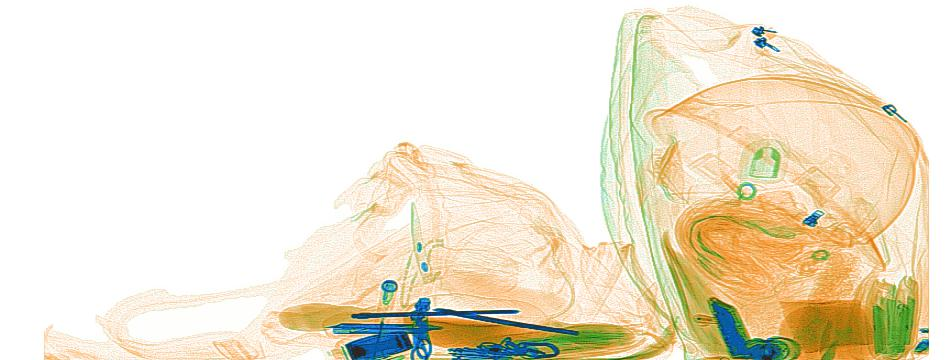knife: (321, 310, 443, 338)
